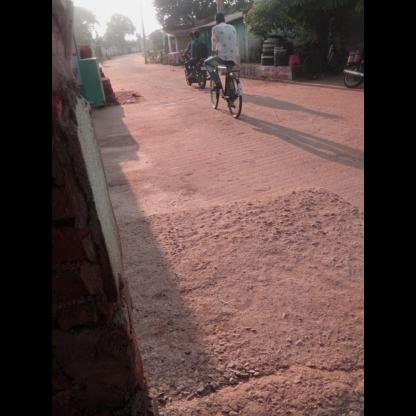Bicycle: (206, 62, 260, 119)
